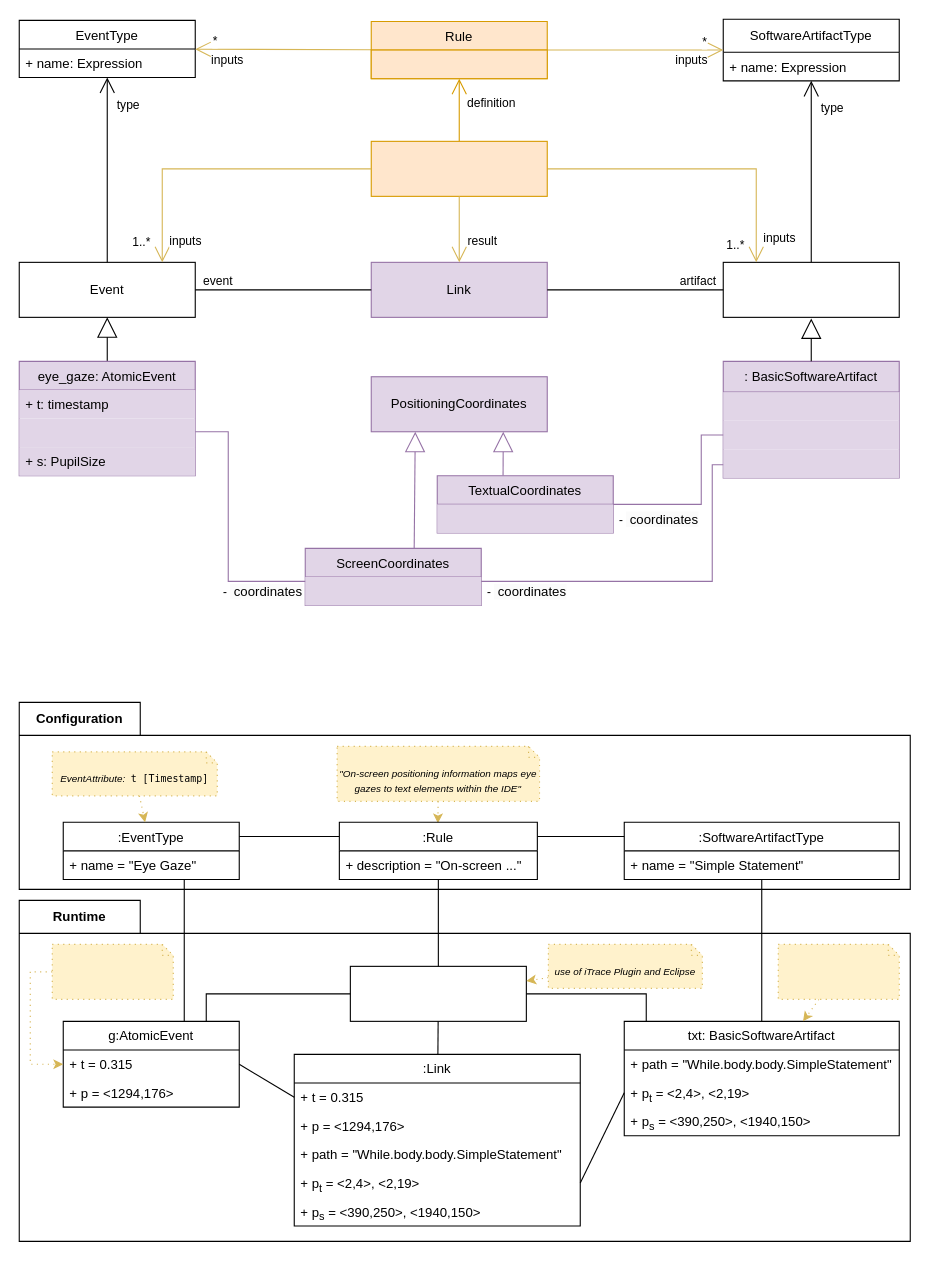
This 930x1261 diagram has some shape labels left out. The shapes that lost their labels are listed below. From the top down, each one's centre as x and y in pixels, then its label:
At point 458,64: "+ description: Expression".
At point 458,168: "RuleApplication".
At point 810,289: "SoftwareArtifact".
At point 811,406: "+ path: Expression".
At point 107,432: "+ p: ScreenCoordinates".
At point 811,434: "+ p t : TextualCoordinates".
At point 811,463: "+ p s : ScreenCoordinates".
At point 525,518: "+ <l, c>:".
At point 393,590: "+ <px, py>:".
At point 112,971: "Value of EventAttribute: 10".
At point 838,971: "variable assignment: temp = temp % 3".
At point 437,993: ":RuleApplication".
